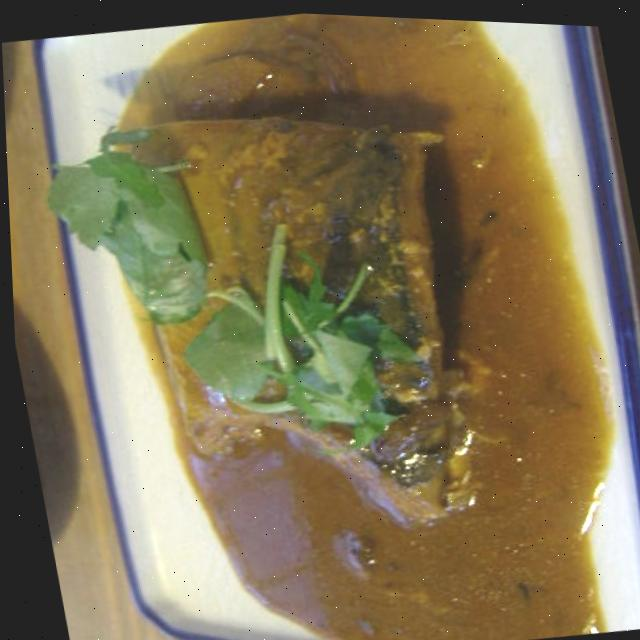熟制海鲜: (80, 44, 546, 582)
